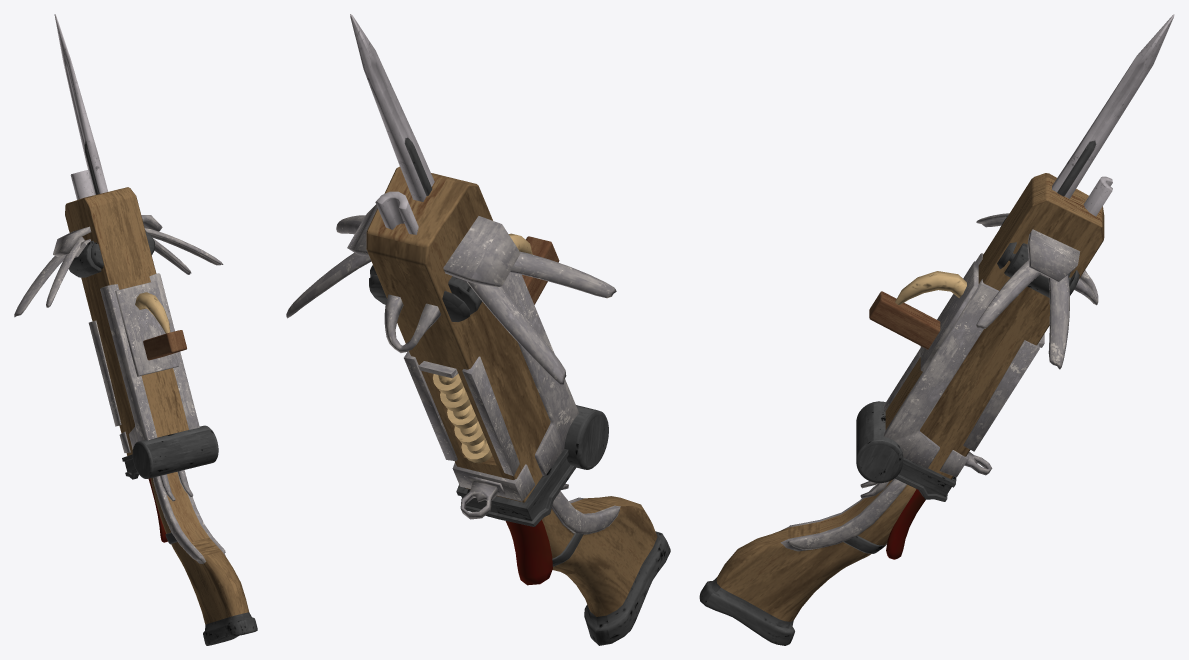
Rendered from bianca.glb.
3 views of the same model, side by side, from view 1: azimuth 30°, elevation 25°; view 2: azimuth 150°, elevation 25°; view 3: azimuth 270°, elevation 25° (orthographic). The views are drawn at different scales.
Parts seen in each view (by area): view 1: Cube; view 2: Cube; view 3: Cube.
Boxes of the visible parts, bbox=[...] form: Cube: bbox=[14, 14, 257, 645]; Cube: bbox=[286, 14, 670, 645]; Cube: bbox=[699, 14, 1174, 645].
Size of the model in its own units: 0.3351 by 0.9385 by 0.6411.
Materials: 7 (7 with a texture image).
